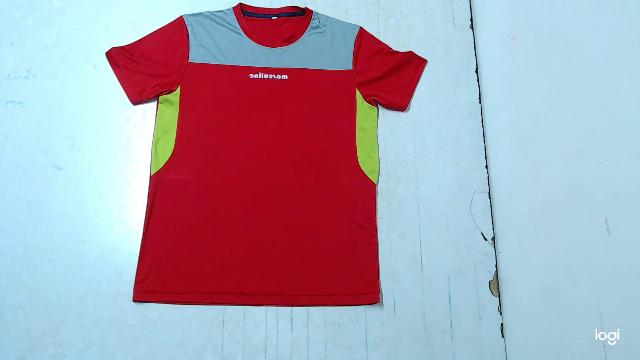new-garment: (106, 3, 427, 306)
